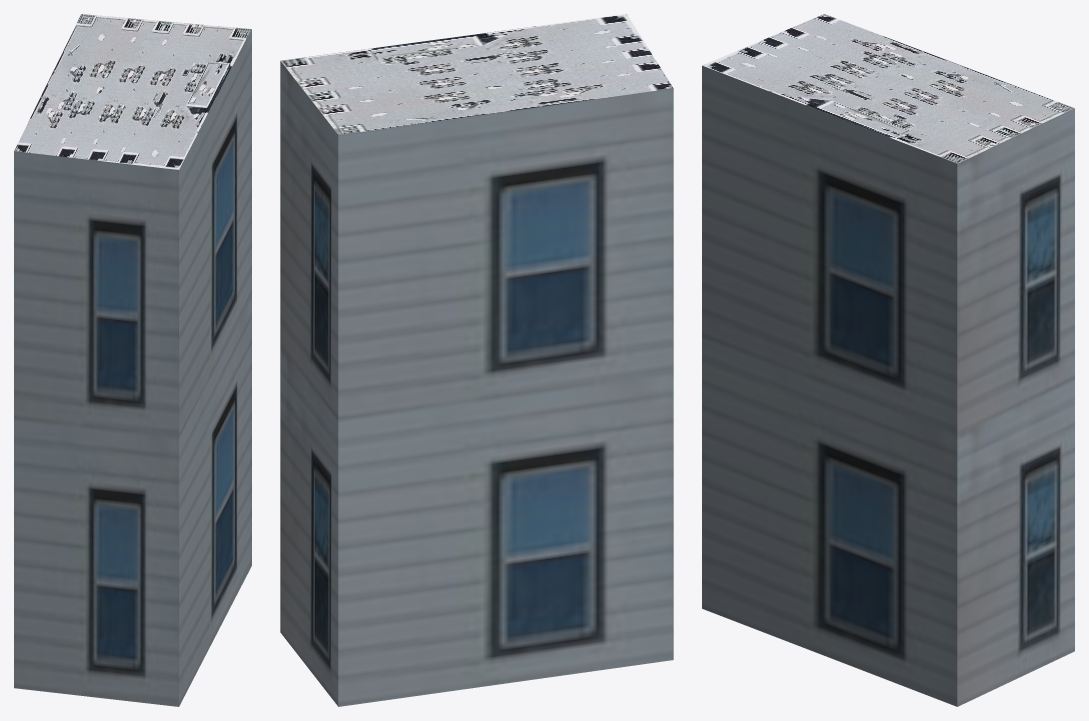
The model's file is ResTex__288.fbx.
3 renders of one model, left to right at view 1: azimuth 30°, elevation 25°; view 2: azimuth 150°, elevation 25°; view 3: azimuth 270°, elevation 25°, orthographic. The views are drawn at different scales.
Visible parts, largest first — view 1: CityEngineMaterial_18_m, CityEngineMaterial_m; view 2: CityEngineMaterial_18_m, CityEngineMaterial_m; view 3: CityEngineMaterial_18_m, CityEngineMaterial_m.
Part boxes in pixels (x1,y1,x2,y2): CityEngineMaterial_18_m: (14,29,251,706); CityEngineMaterial_m: (14,14,251,169); CityEngineMaterial_18_m: (280,61,673,706); CityEngineMaterial_m: (280,14,673,135); CityEngineMaterial_18_m: (702,65,1074,706); CityEngineMaterial_m: (702,14,1074,163).
Bounding box in the file's own units: 3.55 × 6 × 3.73.
2 materials, 2 textured.
